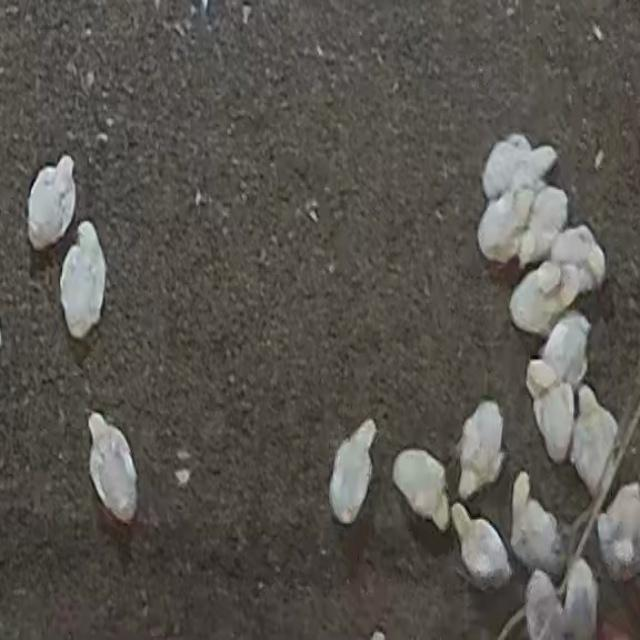chicken: (81, 406, 142, 525), (59, 218, 112, 342), (326, 416, 381, 526), (448, 499, 514, 589), (512, 468, 568, 574), (391, 442, 454, 536), (24, 152, 79, 252), (456, 399, 507, 499), (575, 384, 620, 489)
